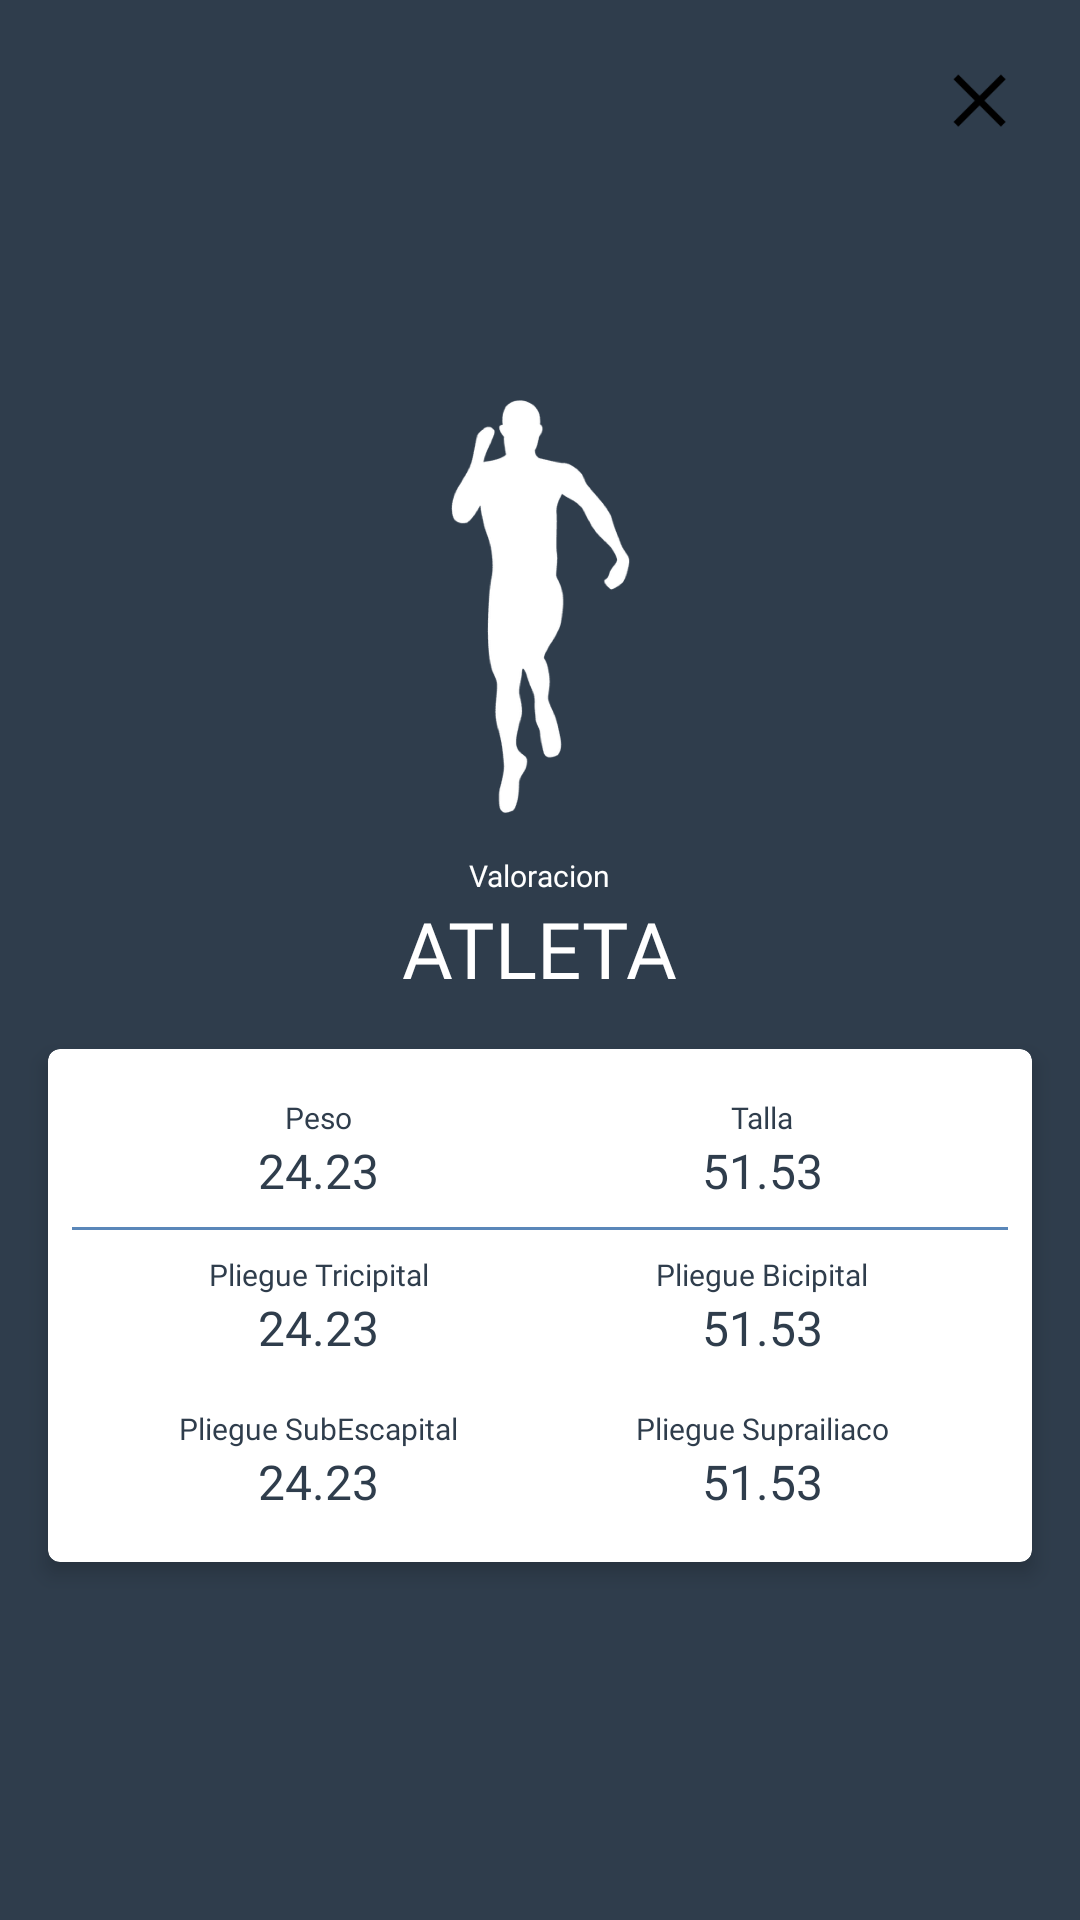

Named icons in this screenshot (1080×1920) and their centers, [x,y]:
cerrar: [980,101]
